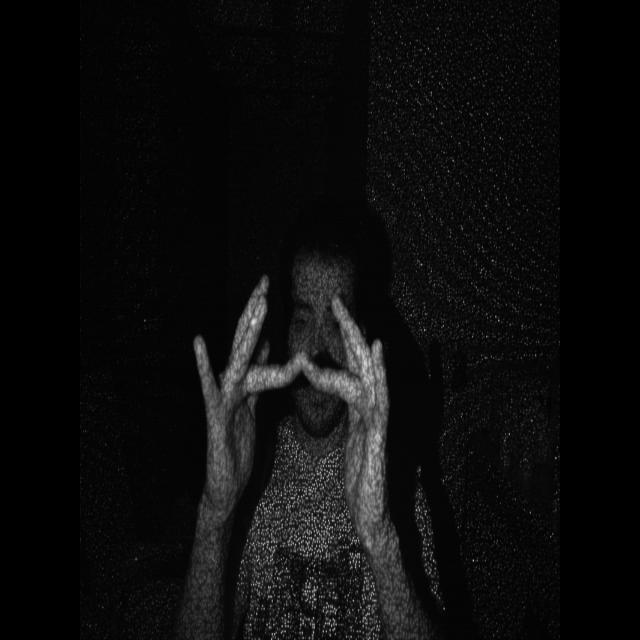REACH: (184, 260, 403, 530)
